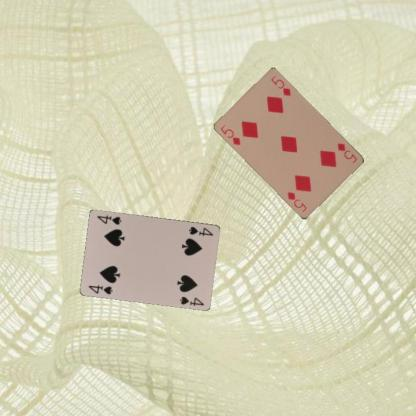4s: (187, 223, 214, 237), (86, 282, 114, 295)
5d: (335, 140, 359, 165), (218, 122, 242, 146)
